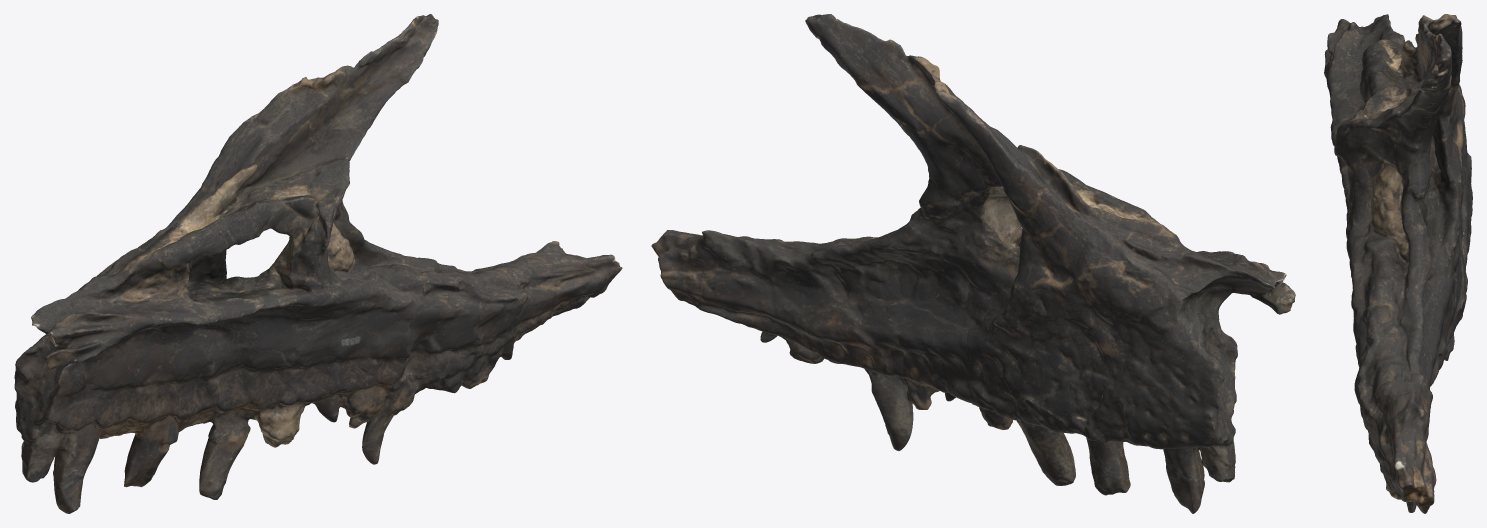
The model's file is allosaurus_fragilis_usnm_b.glb.
3 renders of one model, left to right at view 1: azimuth 30°, elevation 25°; view 2: azimuth 150°, elevation 25°; view 3: azimuth 270°, elevation 25°, orthographic. The views are drawn at different scales.
Visible parts, largest first — view 1: Allosaurus_fragilis_Marsh__1877-150k; view 2: Allosaurus_fragilis_Marsh__1877-150k; view 3: Allosaurus_fragilis_Marsh__1877-150k.
Part boxes in pixels (x1=…): Allosaurus_fragilis_Marsh__1877-150k: x1=14, y1=14, x2=622, y2=513; Allosaurus_fragilis_Marsh__1877-150k: x1=651, y1=14, x2=1295, y2=513; Allosaurus_fragilis_Marsh__1877-150k: x1=1324, y1=14, x2=1472, y2=513.
Bounding box in the file's own units: 0.3536 × 0.2382 × 0.0629.
1 material, 1 textured.
